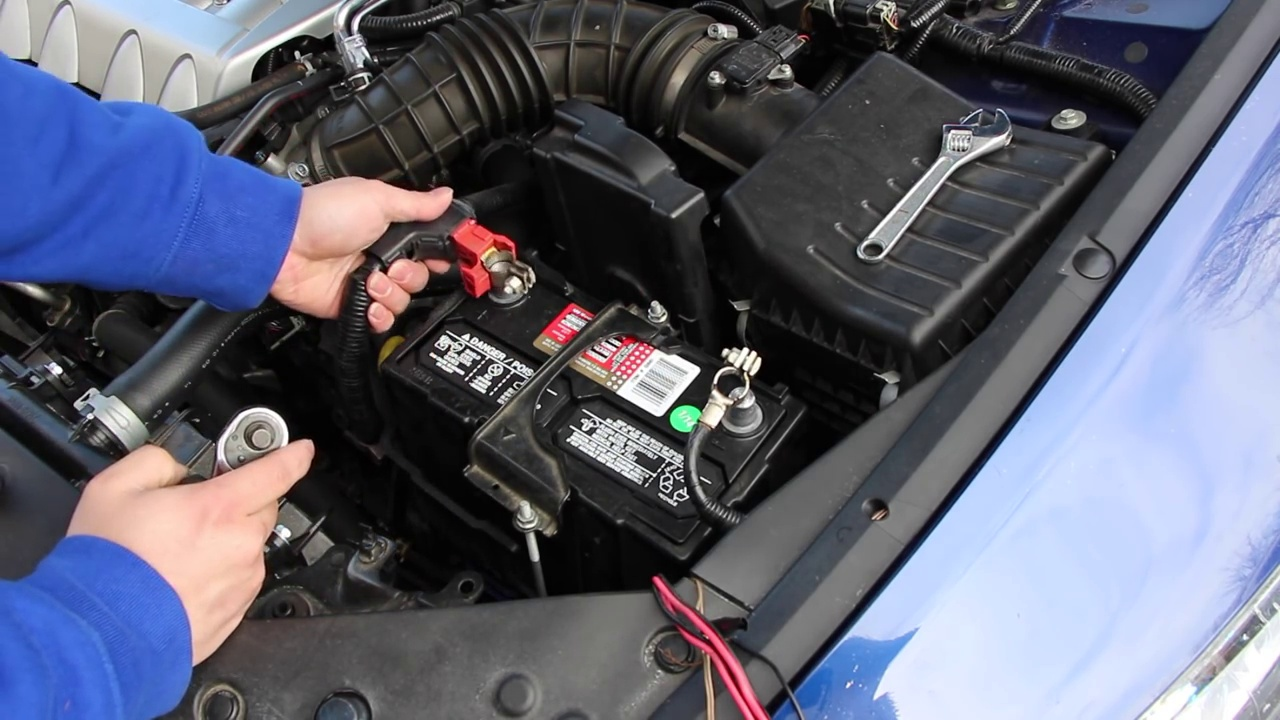battery: (371, 243, 802, 566)
neg_disconnected: (671, 332, 784, 458)
pos_connected: (428, 201, 537, 327)
pos_touched: (350, 181, 514, 345)
